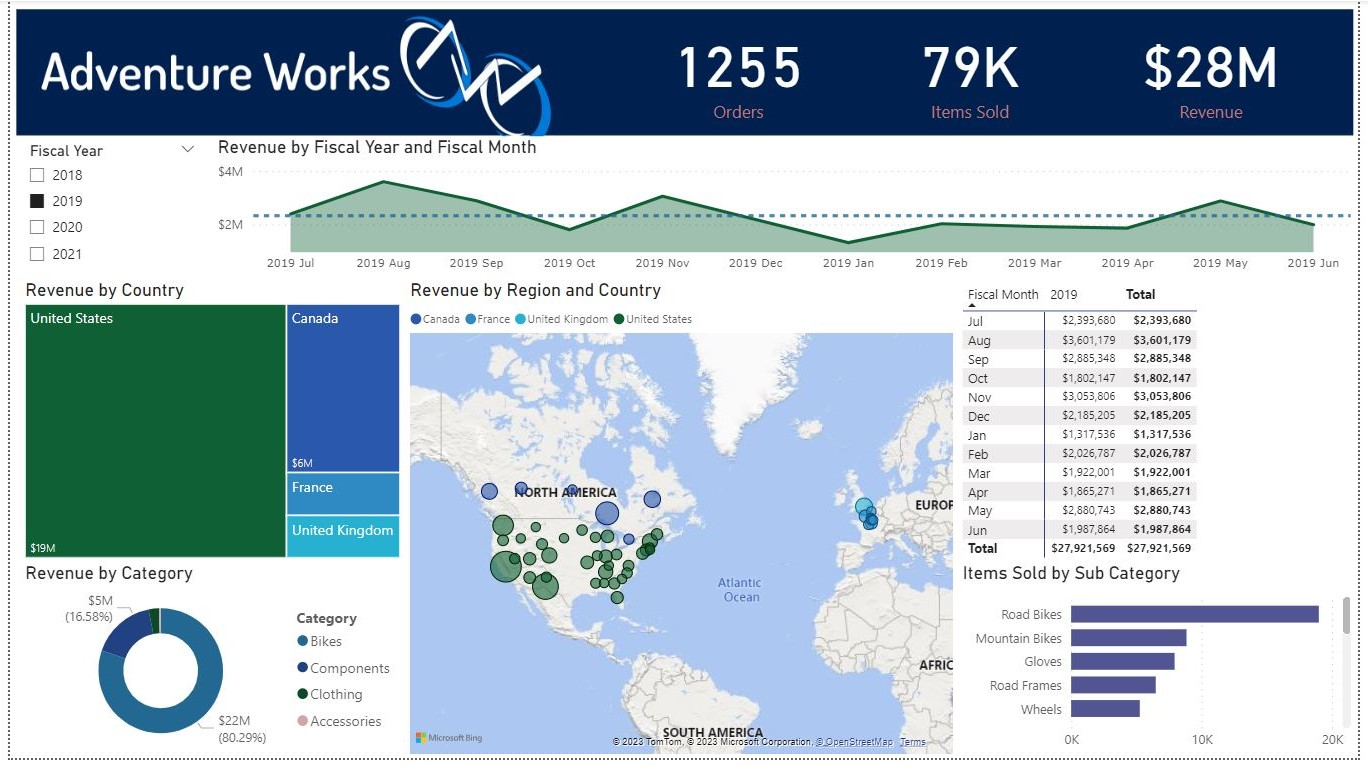

Layout of this report page (visuals, bound fields, positions):
{"tool":"powerbi","page":{"name":"Sales Report","canvas":[1280,720],"ordinal":0},"visuals":[{"type":"map","fields":{"Category":["Customer.Region"],"Size":["Order_Items.Revenue"],"Series":["Customer.Country"]},"box":[374.9,264.8,524.8,455.7],"z":0},{"type":"treemap","fields":{"Group":["Customer.Country"],"Values":["Order_Items.Revenue"]},"box":[9.4,264.8,365.5,269.4],"z":1000},{"type":"pivotTable","fields":{"Columns":["Calendar.Fiscal Year"],"Values":["Order_Items.Revenue"],"Rows":["Calendar.Fiscal Month"]},"box":[899.7,264.8,380.7,283.5],"z":2000},{"type":"image","box":[1.3,0,1279.2,144.7],"z":3000},{"type":"card","fields":{"Values":["Order_Items.Items Sold"]},"box":[799,13.9,226.1,106.6],"z":4000},{"type":"card","fields":{"Values":["Order_Items.Orders"]},"box":[585.8,13.9,213.2,106.6],"z":5000},{"type":"card","fields":{"Values":["Order_Items.Revenue"]},"box":[1025.1,13.9,229.6,106.6],"z":6000},{"type":"donutChart","fields":{"Category":["Products.Category"],"Y":["Order_Items.Revenue"]},"box":[9.4,534.2,365.5,186.3],"z":7000},{"type":"clusteredBarChart","fields":{"Category":["Products.Sub Category"],"Y":["Order_Items.Items Sold"]},"box":[899.7,534.2,378.4,186.3],"z":8000},{"type":"slicer","fields":{"Values":["Calendar.Fiscal Year"]},"box":[5.9,128.9,181.6,135.9],"z":9000},{"type":"areaChart","fields":{"Category":["Calendar.Fiscal Date.Fiscal Year","Calendar.Fiscal Date.Fiscal Month"],"Y":["Order_Items.Revenue"]},"box":[192.1,128.9,1086,135.9],"z":10000}]}

Visuals, with their boxes in screenshot pixels (x1, y1, x2, y2), scaled from the page's 1280x720 canvas onto the 1368x766 screenshot:
map - Customer.Region x Order_Items.Revenue: bbox(401, 282, 962, 765)
treemap - Customer.Country x Order_Items.Revenue: bbox(10, 282, 401, 568)
pivotTable - Calendar.Fiscal Year x Order_Items.Revenue: bbox(962, 282, 1367, 583)
image: bbox(1, 0, 1367, 154)
card - Order_Items.Items Sold: bbox(854, 15, 1096, 128)
card - Order_Items.Orders: bbox(626, 15, 854, 128)
card - Order_Items.Revenue: bbox(1096, 15, 1341, 128)
donutChart - Products.Category x Order_Items.Revenue: bbox(10, 568, 401, 765)
clusteredBarChart - Products.Sub Category x Order_Items.Items Sold: bbox(962, 568, 1366, 765)
slicer - Calendar.Fiscal Year: bbox(6, 137, 200, 282)
areaChart - Calendar.Fiscal Date.Fiscal Year x Calendar.Fiscal Date.Fiscal Month: bbox(205, 137, 1366, 282)
